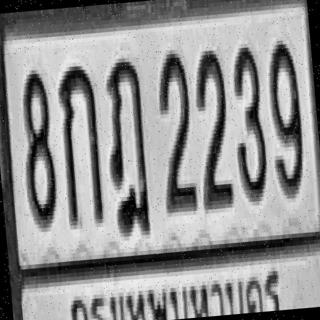A01: (56, 59, 105, 223)
A14: (100, 53, 152, 233)
N02: (152, 47, 198, 211), (191, 46, 234, 206)
N03: (227, 41, 269, 201)
N08: (17, 65, 59, 225)
N09: (265, 39, 307, 195)
